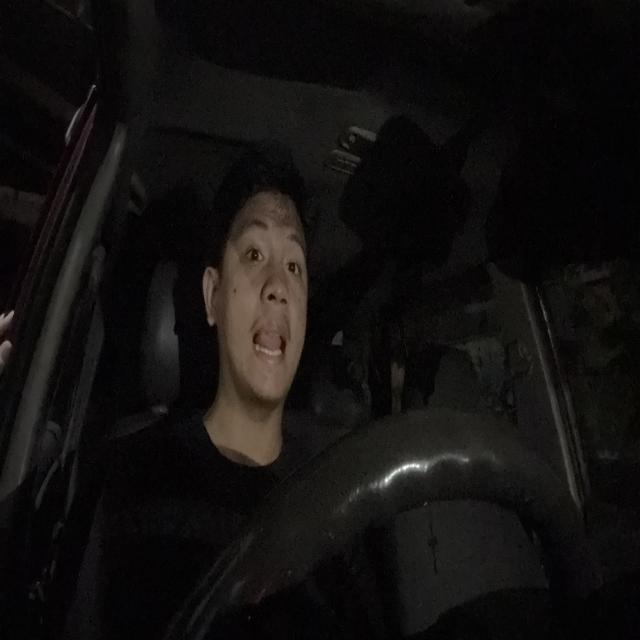open: (234, 216, 270, 274), (285, 230, 306, 288)
